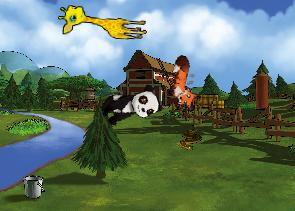fox: (163, 54, 209, 112)
giraffe: (57, 3, 148, 40)
panda: (97, 82, 163, 130)
